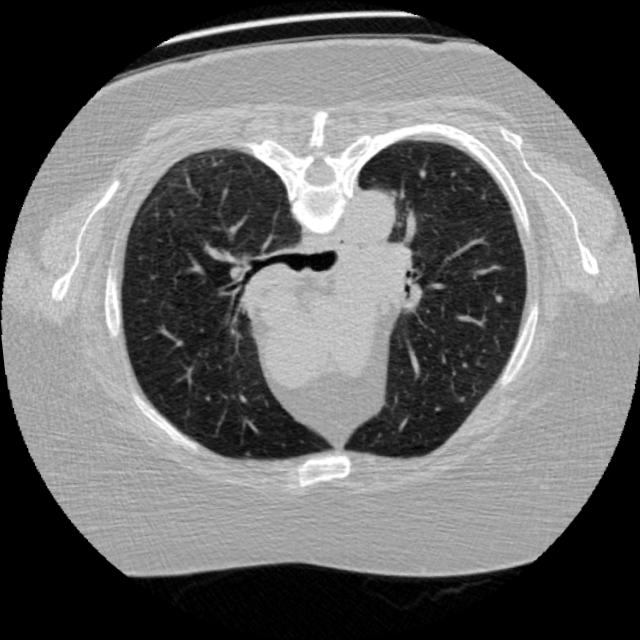nodule: (486, 288, 508, 310)
